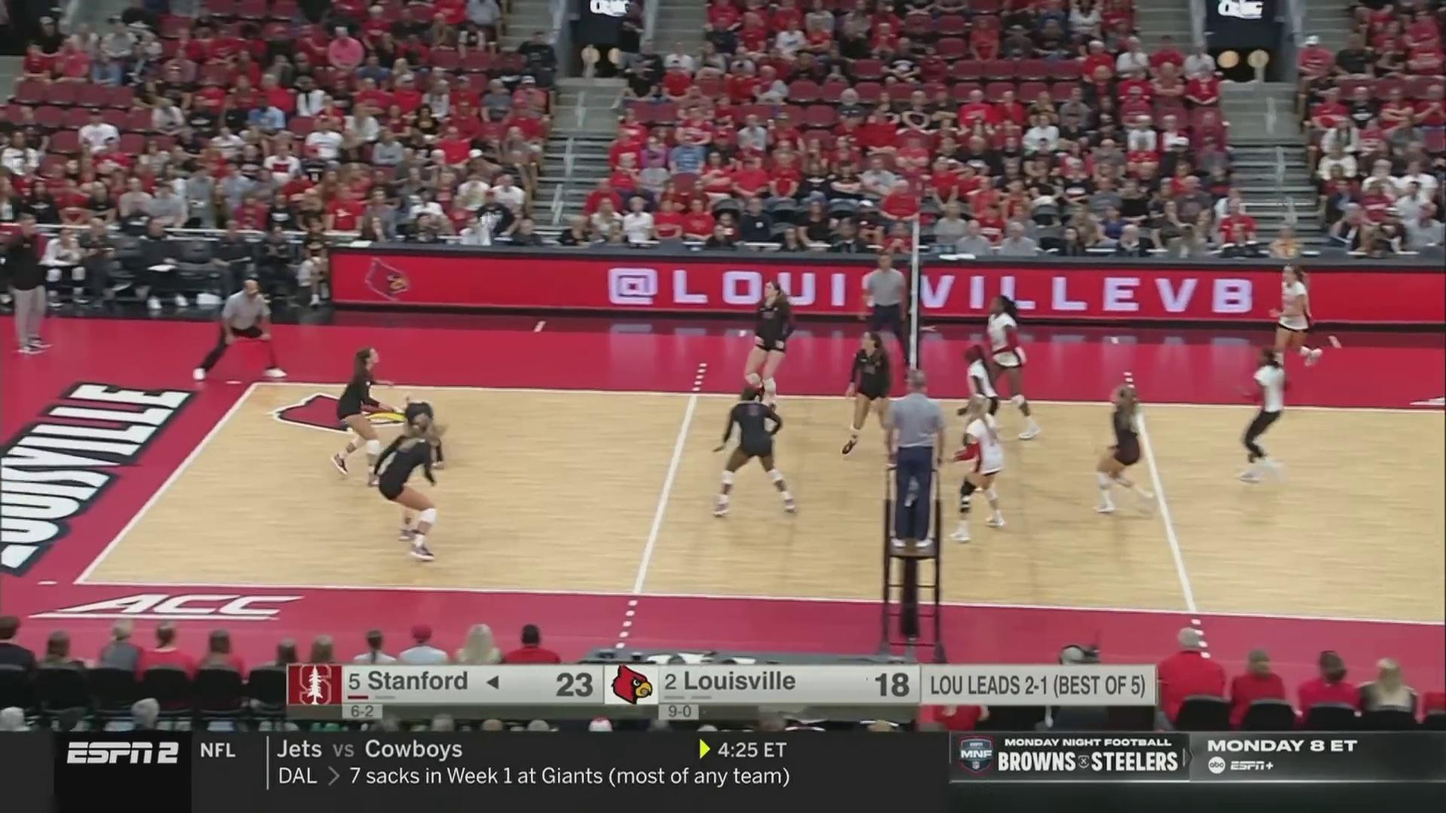player: (716, 383, 796, 516), (966, 296, 1040, 438), (376, 414, 445, 562), (1235, 346, 1303, 483), (739, 277, 801, 419), (333, 346, 399, 479), (1092, 383, 1157, 513), (949, 401, 1007, 541), (1260, 265, 1324, 387), (840, 329, 895, 466), (954, 343, 1001, 468), (387, 393, 450, 471)
refree: (882, 380, 947, 553), (194, 282, 285, 385), (863, 250, 912, 372)
